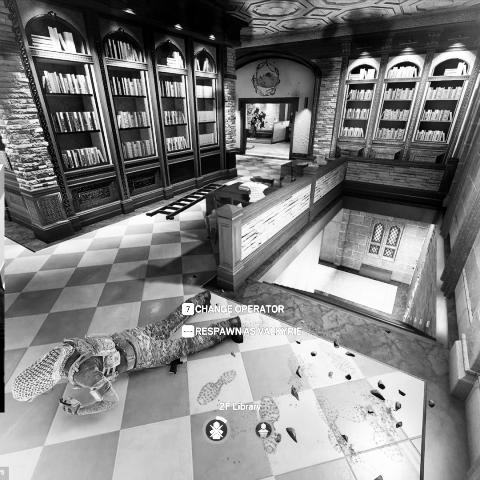Character: (1, 296, 236, 410), (250, 115, 258, 138)
Head: (12, 354, 58, 402), (256, 114, 258, 118)
